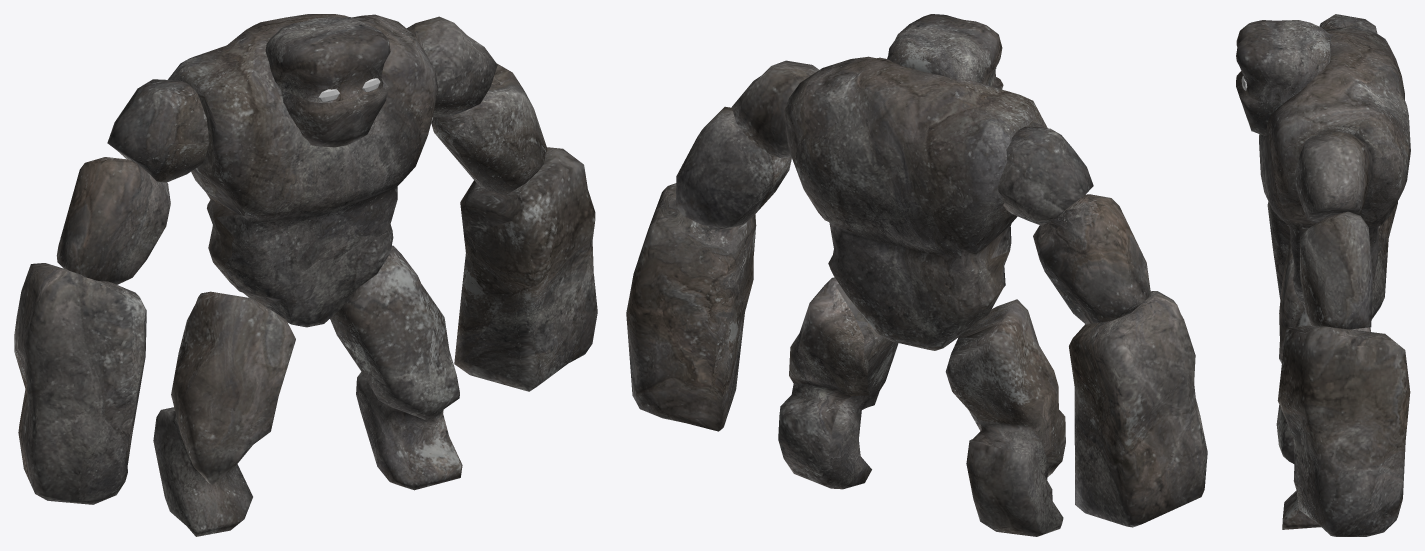
Rendered from walk_000001.obj.
The picture shows the model from 3 angles, left to right: view 1: azimuth 30°, elevation 25°; view 2: azimuth 150°, elevation 25°; view 3: azimuth 270°, elevation 25°; orthographic projection. The views are drawn at different scales.
Visible parts, largest first — view 1: hands&leg.001_ice.003, torso.001_ice.005, head.001_ice.004; view 2: hands&leg.001_ice.003, torso.001_ice.005, head.001_ice.004; view 3: hands&leg.001_ice.003, torso.001_ice.005, head.001_ice.004.
Part boxes in pixels (box(x1,y1,x2,y2)): hands&leg.001_ice.003: box(14, 16, 597, 536); torso.001_ice.005: box(168, 14, 437, 327); head.001_ice.004: box(265, 17, 390, 147); hands&leg.001_ice.003: box(626, 60, 1207, 536); torso.001_ice.005: box(784, 56, 1047, 350); head.001_ice.004: box(887, 14, 1003, 89); hands&leg.001_ice.003: box(1267, 14, 1410, 536); torso.001_ice.005: box(1259, 25, 1410, 308); head.001_ice.004: box(1236, 20, 1331, 135).
Size of the model in its own units: 11.9 by 9.58 by 3.41.
2 materials, 1 textured.
